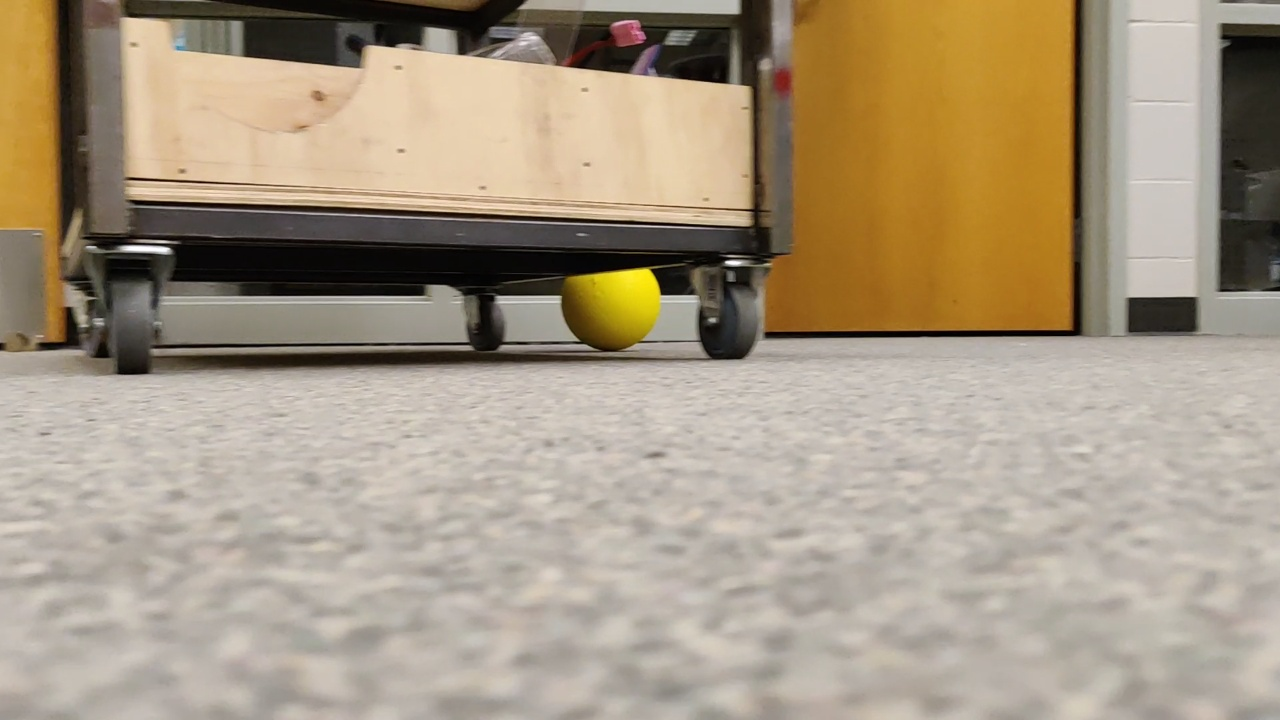Ball: (544, 252, 668, 366)
